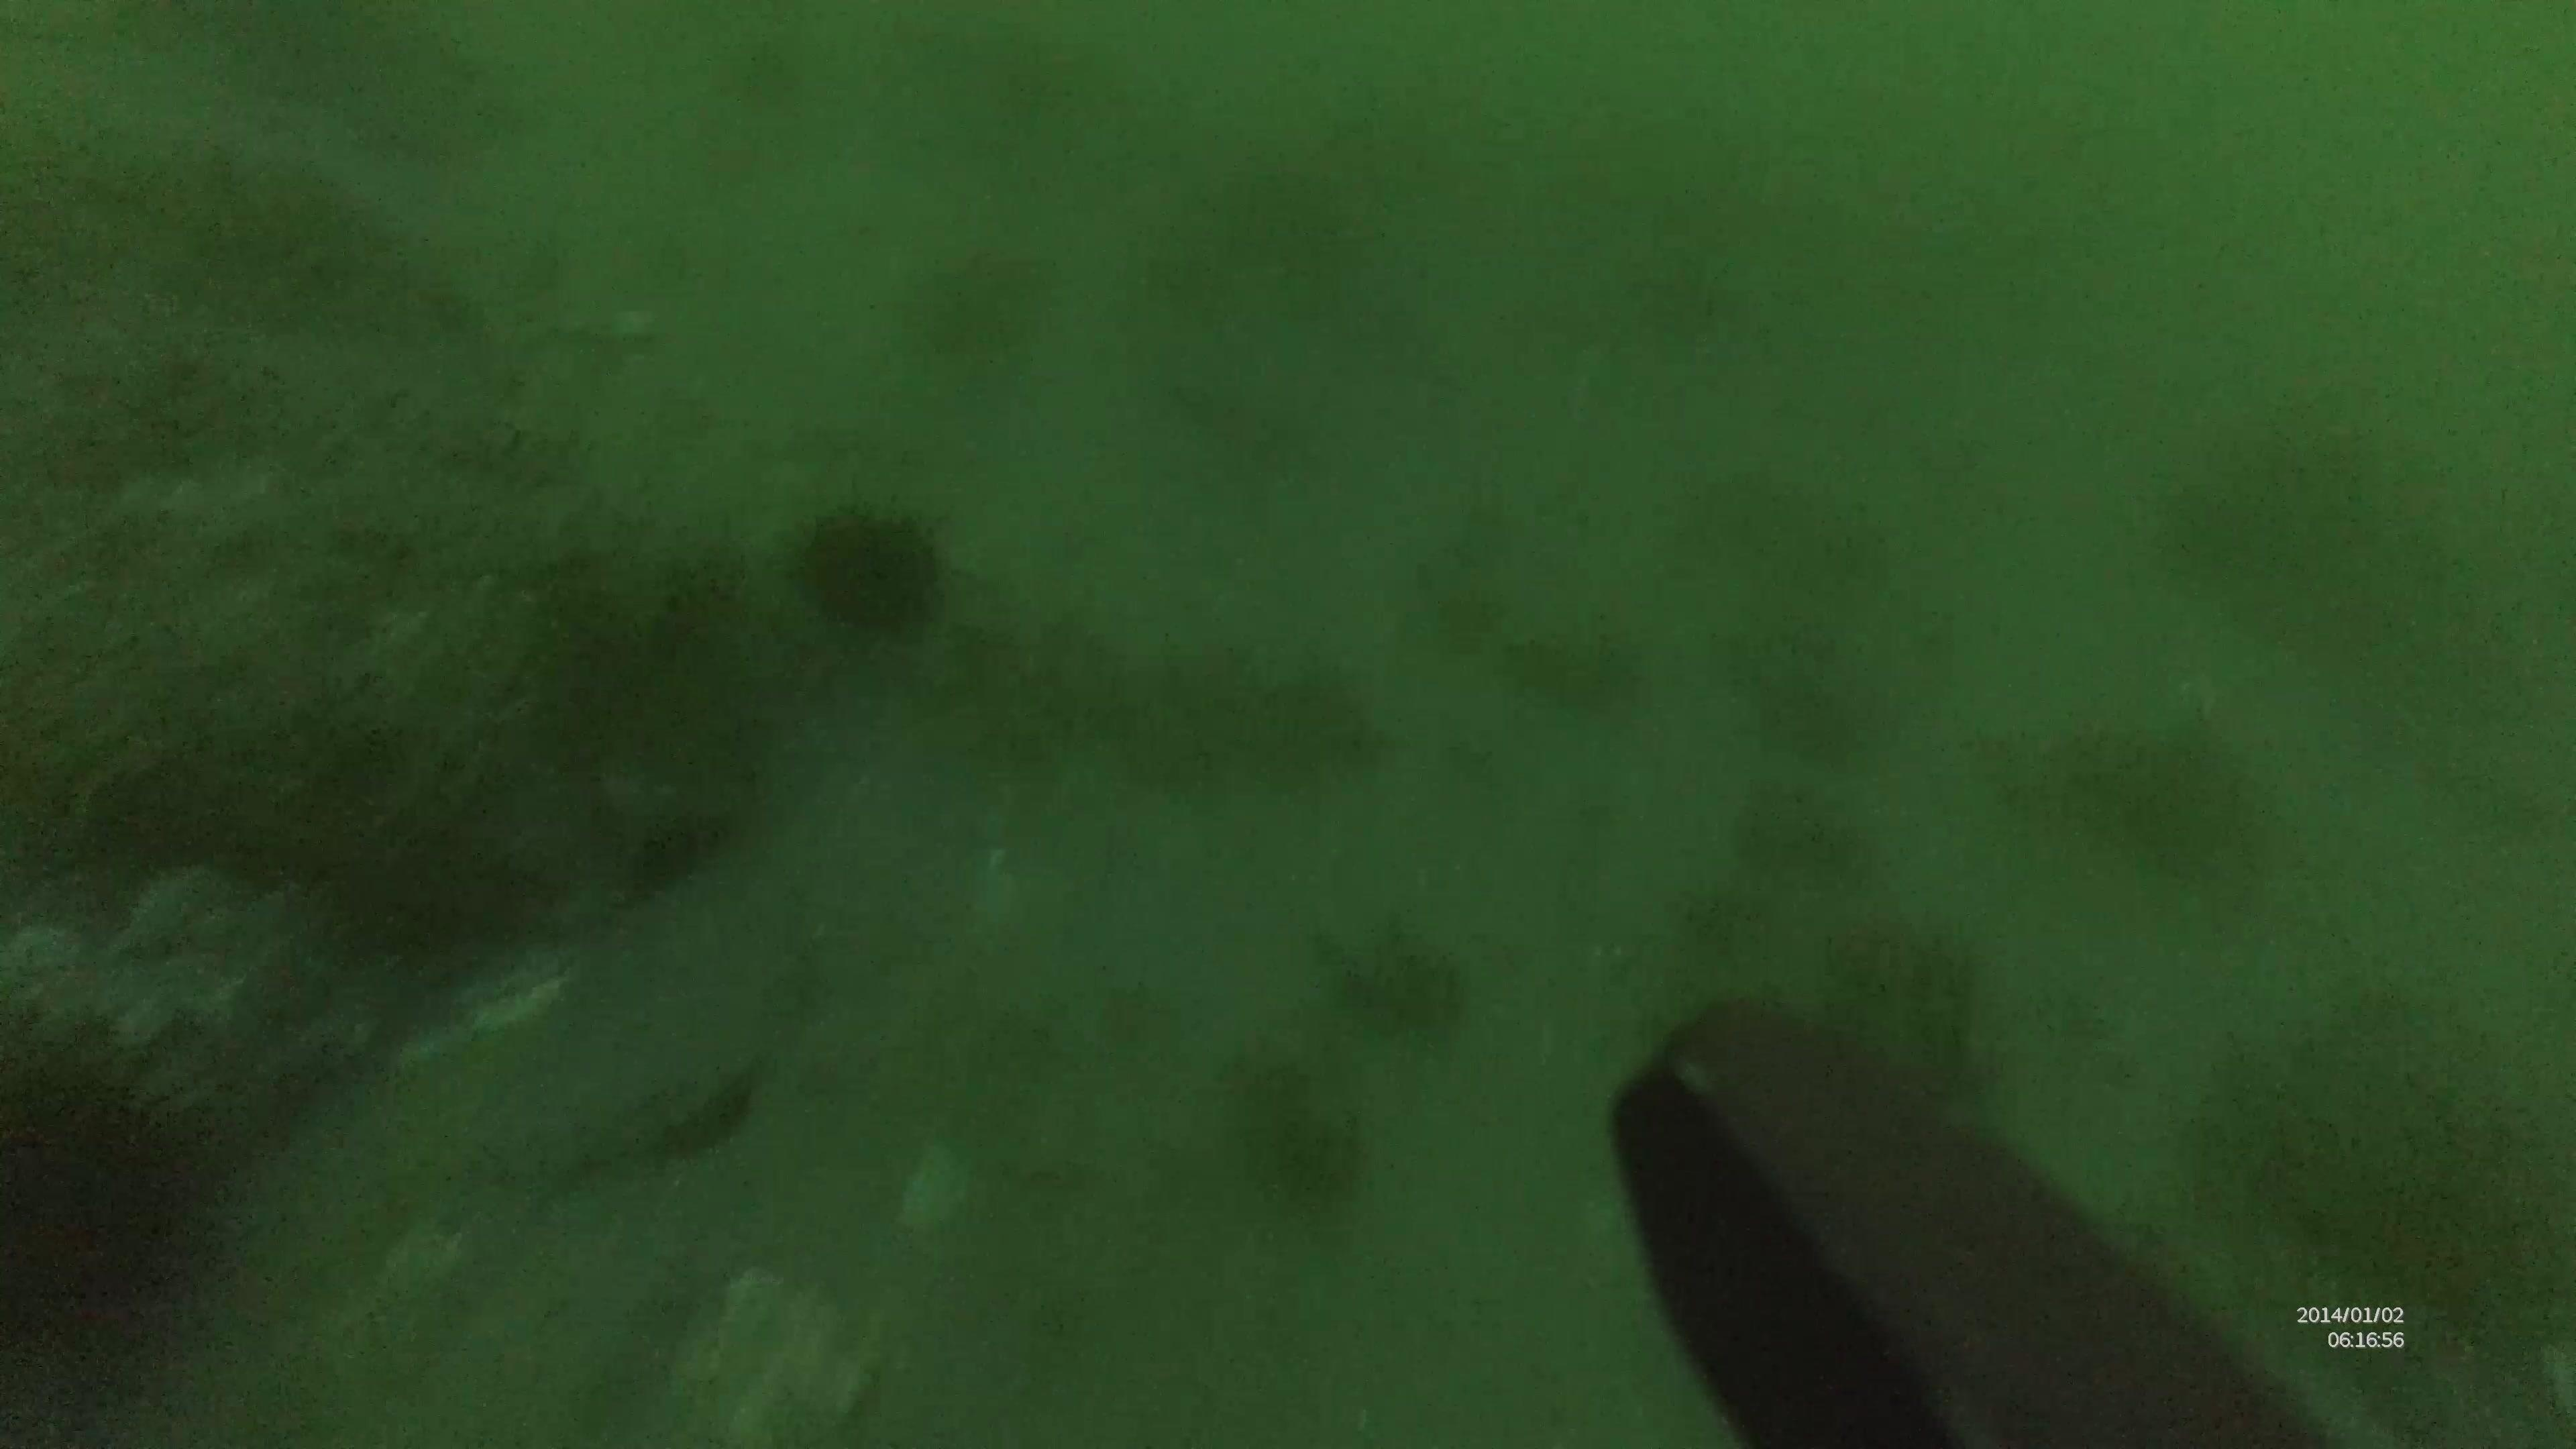echinus: (2, 994, 239, 1403), (787, 495, 954, 644)
